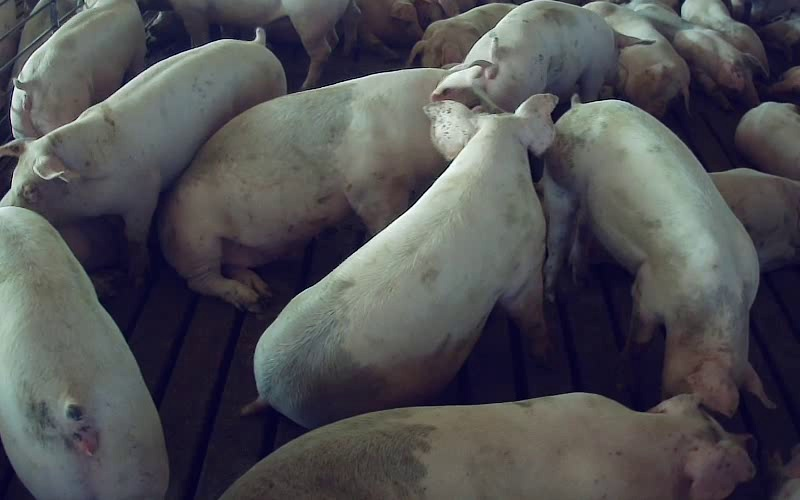pig: (160, 64, 491, 309), (0, 30, 285, 281), (542, 101, 767, 415), (222, 393, 753, 499), (465, 0, 646, 111), (628, 0, 764, 107), (584, 2, 689, 117), (407, 3, 514, 67), (681, 0, 767, 70)
